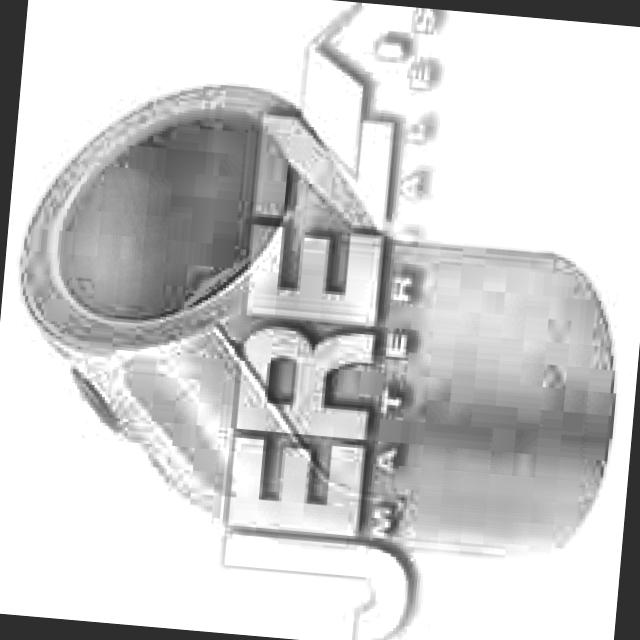ELBOW45: (17, 85, 617, 560)
